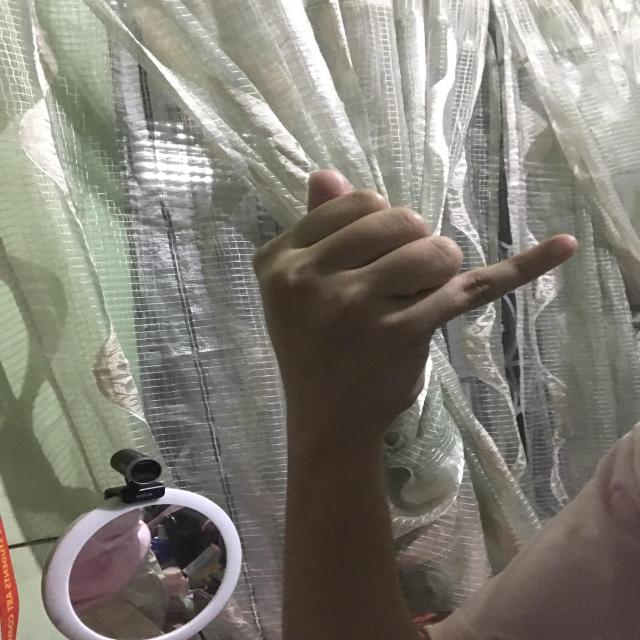J: (248, 166, 586, 431)
